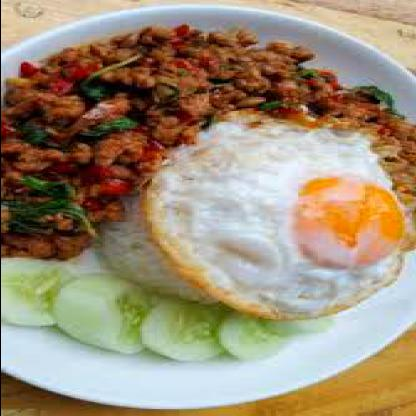Basil Rice: (2, 1, 415, 384)
